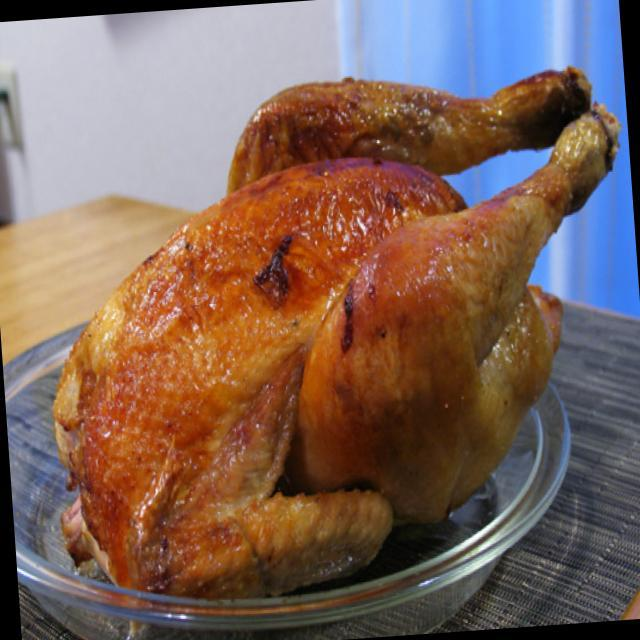Chicken: (33, 57, 640, 614)
